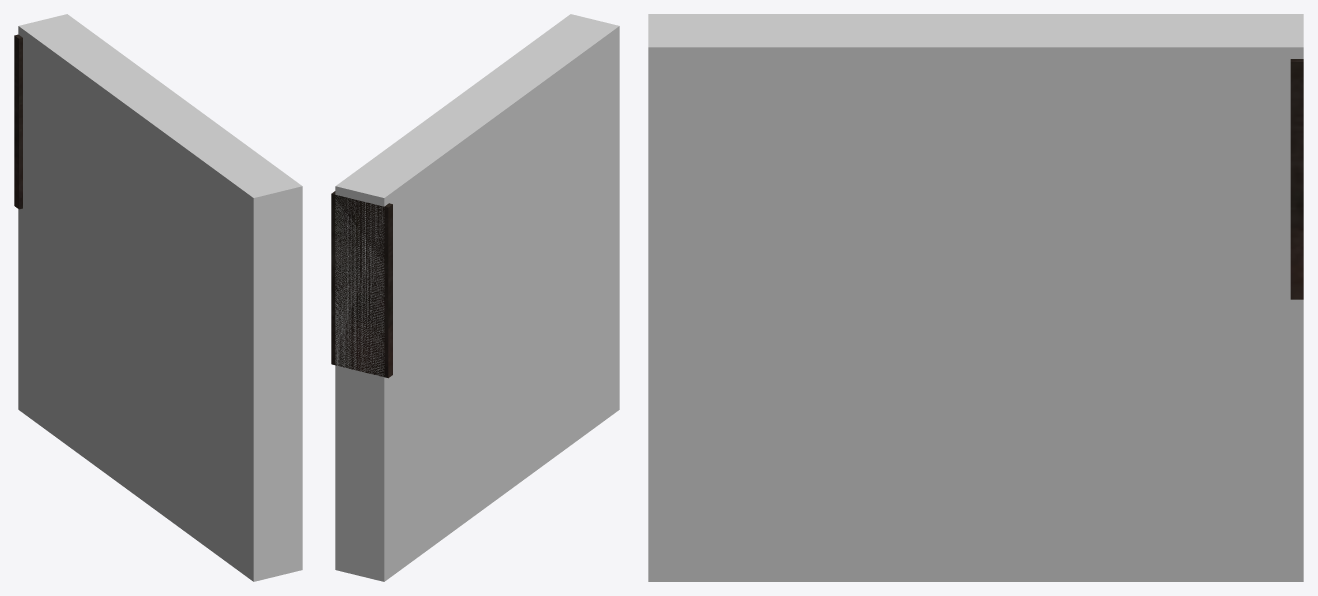
The model's file is hanging_sign_v1_lite.glb.
3 renders of one model, left to right at view 1: azimuth 30°, elevation 25°; view 2: azimuth 150°, elevation 25°; view 3: azimuth 270°, elevation 25°, orthographic. The views are drawn at different scales.
Visible parts, largest first — view 1: col_sign, bracket; view 2: col_sign, bracket; view 3: col_sign, bracket.
Boxes of the visible parts, x1,y1,x2,y2 form: col_sign: (18,14,302,581); bracket: (14,34,22,209); col_sign: (335,14,619,581); bracket: (331,191,392,378); col_sign: (648,14,1303,581); bracket: (1290,59,1303,299).
Size of the model in its own units: 0.14 by 0.9 by 1.
Materials: 2 (2 with a texture image).
